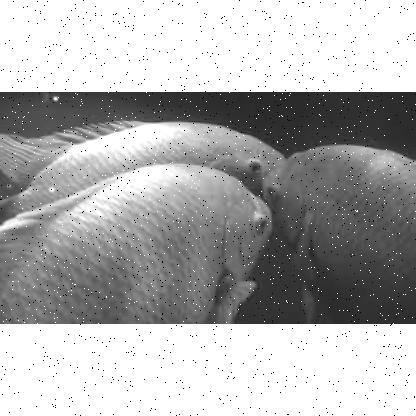gurame: (0, 171, 272, 323), (263, 143, 415, 323), (3, 116, 281, 192)
